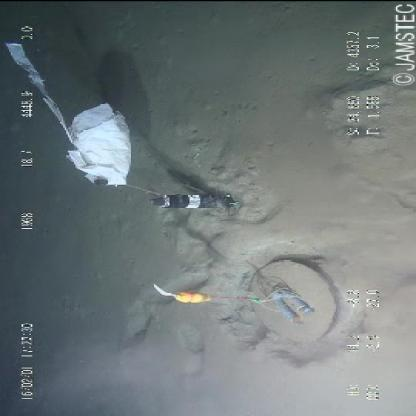Rov: (138, 189, 338, 344)
